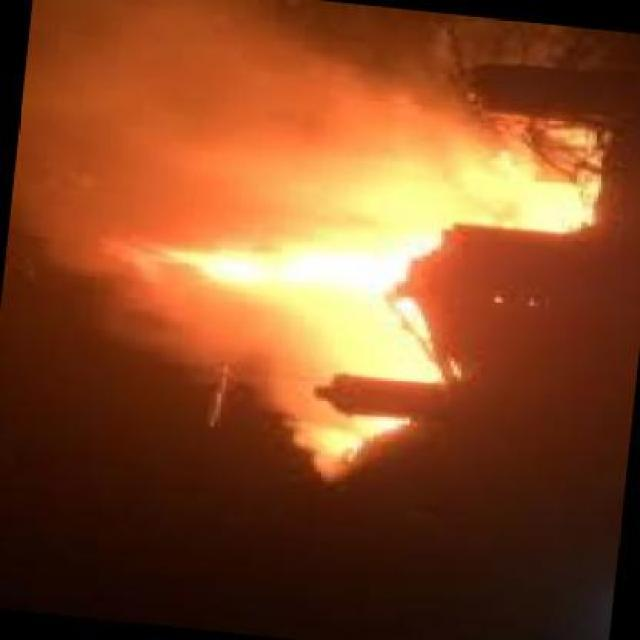Fire: (144, 235, 448, 320), (342, 150, 608, 236), (274, 331, 440, 448)
Smoke: (120, 2, 487, 148), (26, 7, 136, 358), (148, 151, 306, 224), (156, 325, 260, 424)
